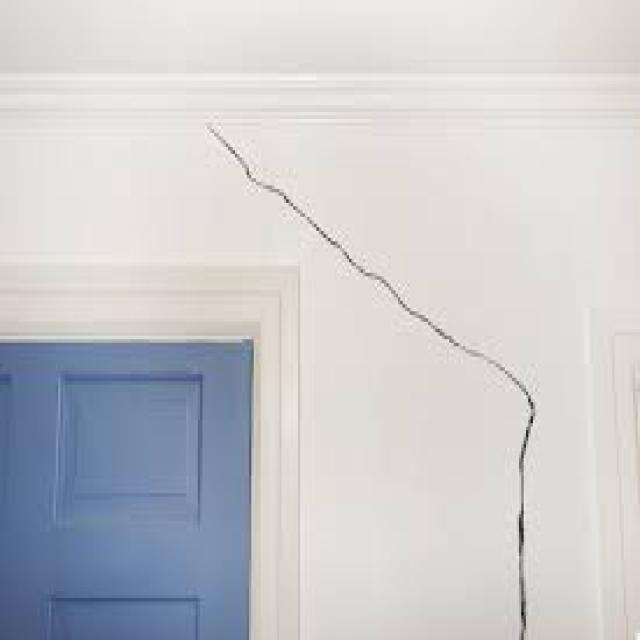Crack: (202, 119, 530, 399), (512, 392, 538, 636)
